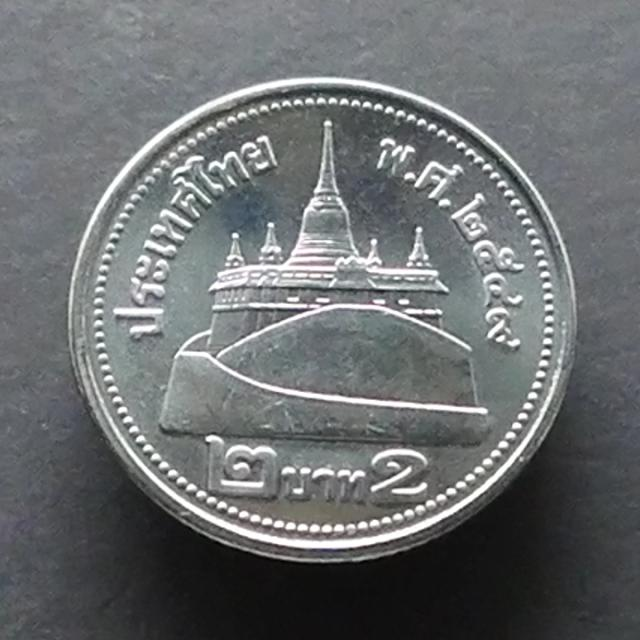2 Bath: (65, 78, 582, 574)
